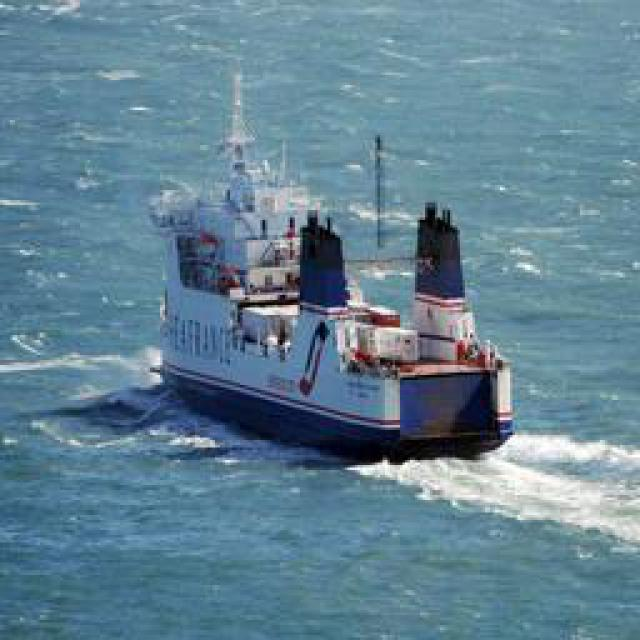Ship: (150, 65, 515, 458)
